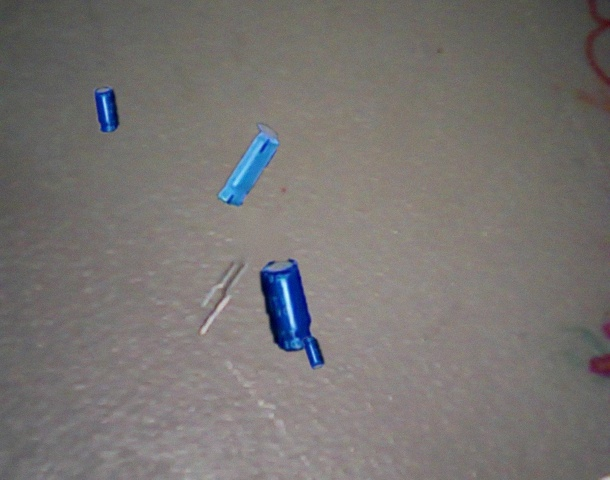capacitor: (217, 124, 280, 207), (260, 259, 315, 352), (94, 86, 119, 133), (303, 336, 324, 370)
